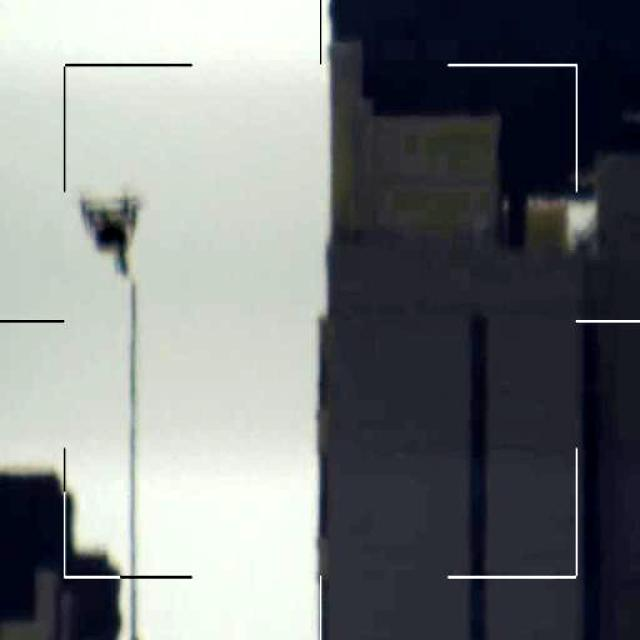bird: (80, 190, 142, 285)
